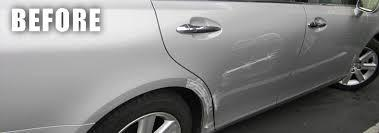doorouter-dent: (183, 0, 290, 117), (293, 6, 349, 92)
